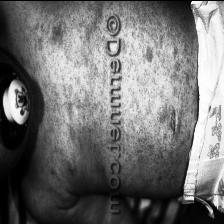Non-Cancerous Skin Condition: (128, 29, 184, 189), (46, 18, 82, 178)
